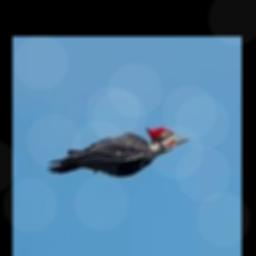Woodpecker: (47, 125, 188, 177)
